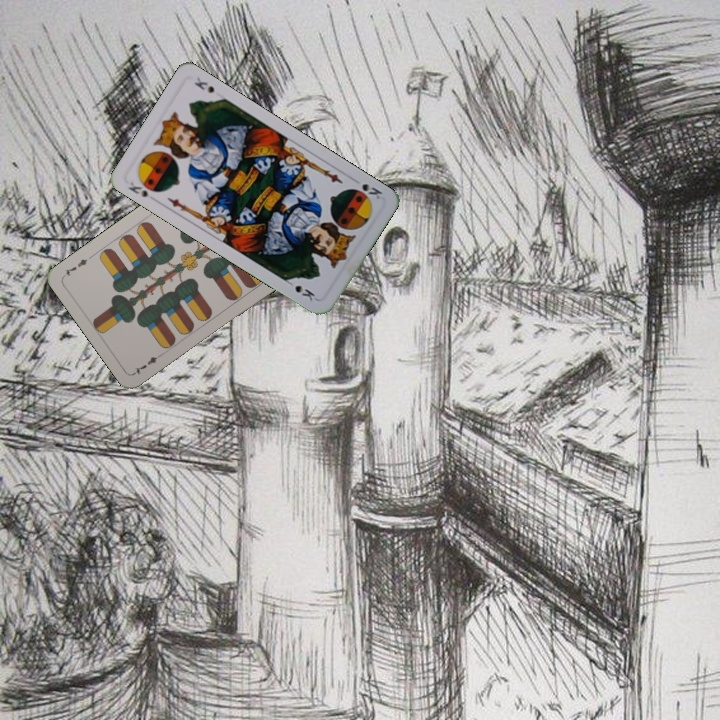E7: (130, 349, 166, 377)
SK: (124, 178, 160, 203), (358, 179, 385, 202)
